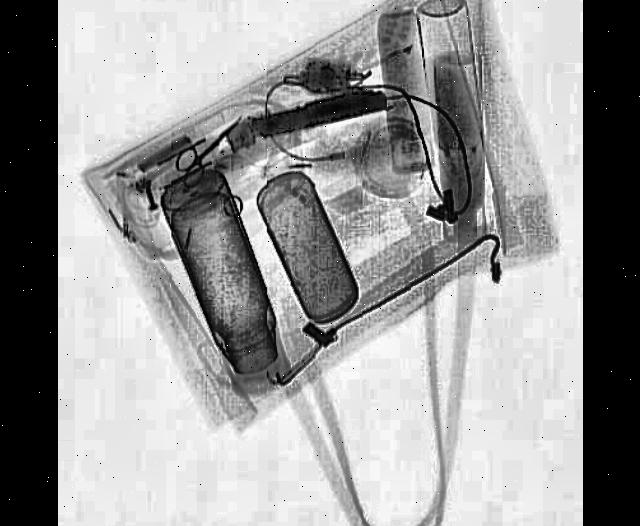Scissors: (174, 108, 248, 190)
